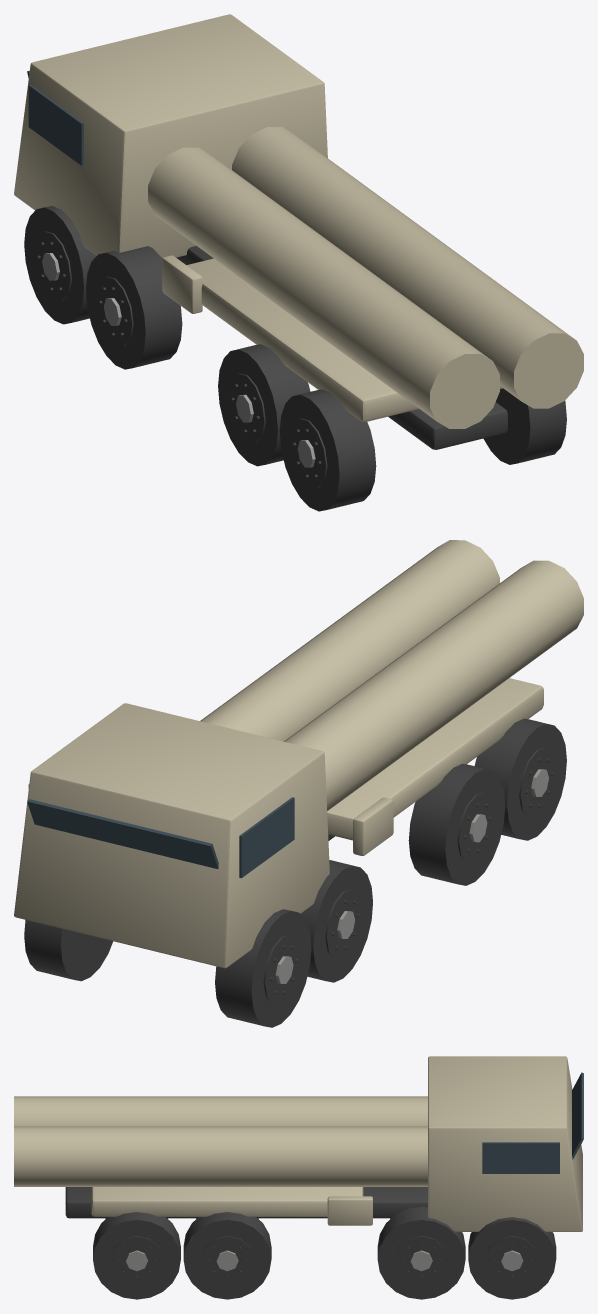
Rendered from rus_mlrs_isk.glb.
3 views of the same model, one above another, from view 1: azimuth 30°, elevation 25°; view 2: azimuth 150°, elevation 25°; view 3: azimuth 270°, elevation 25° (orthographic). The views are drawn at different scales.
Visible parts, largest first — view 1: barrel, body, turret, wheel_2, wheel_6, wheel_4, wheel_0, wheel_7; view 2: body, barrel, turret, wheel_4, wheel_0, wheel_6, wheel_2, wheel_1; view 3: barrel, body, turret, wheel_5, wheel_7, wheel_3, wheel_1.
Boxes of the visible parts, x1=… form: barrel: x1=148, y1=127, x2=583, y2=428; body: x1=14, y1=14, x2=507, y2=449; turret: x1=186, y1=258, x2=502, y2=421; wheel_2: x1=86, y1=246, x2=182, y2=369; wheel_6: x1=279, y1=389, x2=376, y2=511; wheel_4: x1=218, y1=344, x2=310, y2=466; wheel_0: x1=24, y1=206, x2=96, y2=324; wheel_7: x1=483, y1=388, x2=566, y2=464; body: x1=14, y1=703, x2=393, y2=968; barrel: x1=200, y1=540, x2=583, y2=810; turret: x1=327, y1=678, x2=543, y2=840; wheel_4: x1=408, y1=763, x2=505, y2=885; wheel_0: x1=215, y1=909, x2=311, y2=1027; wheel_6: x1=474, y1=718, x2=566, y2=840; wheel_2: x1=301, y1=860, x2=372, y2=982; wheel_1: x1=24, y1=920, x2=112, y2=981; barrel: x1=14, y1=1096, x2=427, y2=1186; body: x1=65, y1=1056, x2=583, y2=1231; turret: x1=91, y1=1187, x2=363, y2=1216; wheel_5: x1=183, y1=1212, x2=271, y2=1299; wheel_7: x1=93, y1=1212, x2=180, y2=1299; wheel_3: x1=377, y1=1206, x2=465, y2=1299; wheel_1: x1=468, y1=1217, x2=556, y2=1299.
Size of the model in its own units: 3.1 by 2.85 by 8.81.
